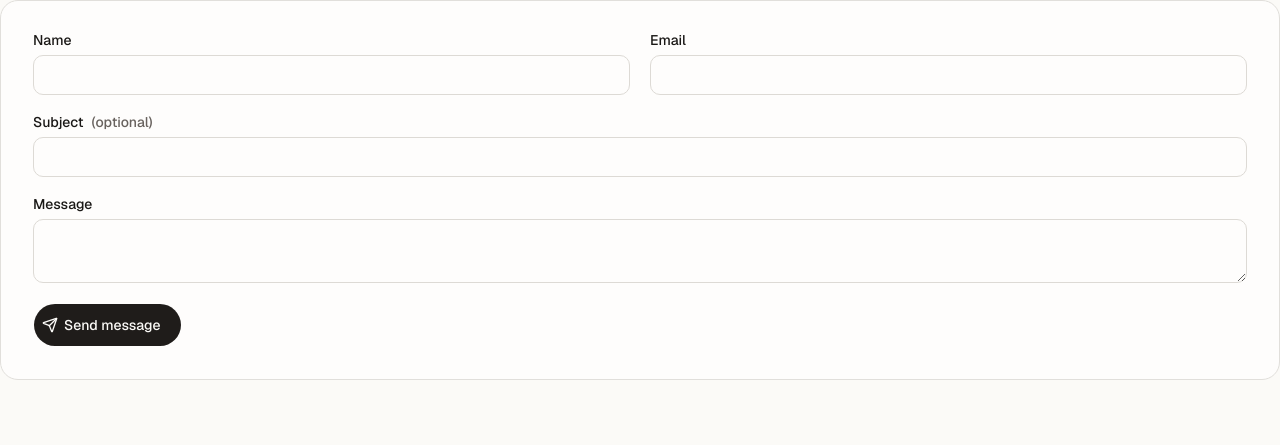
Test: ContactForm › shows validation errors and does not submit invalid input
Type "not-an-email" into the field labelled "Email".
click(948, 75); type("not-an-email")  # box [650,55,1247,95]
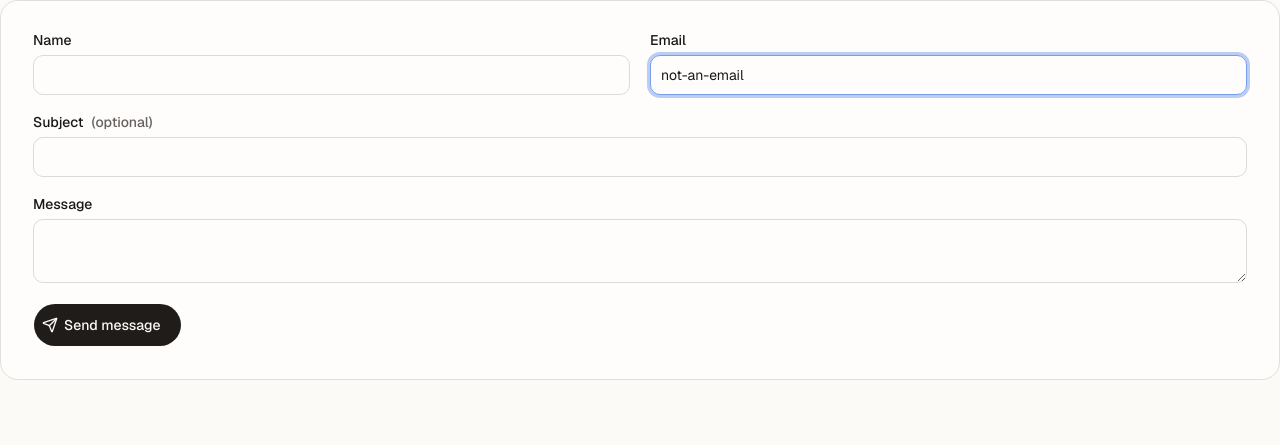
Click the button "Send message".
click(107, 325)  # box [33,303,182,347]
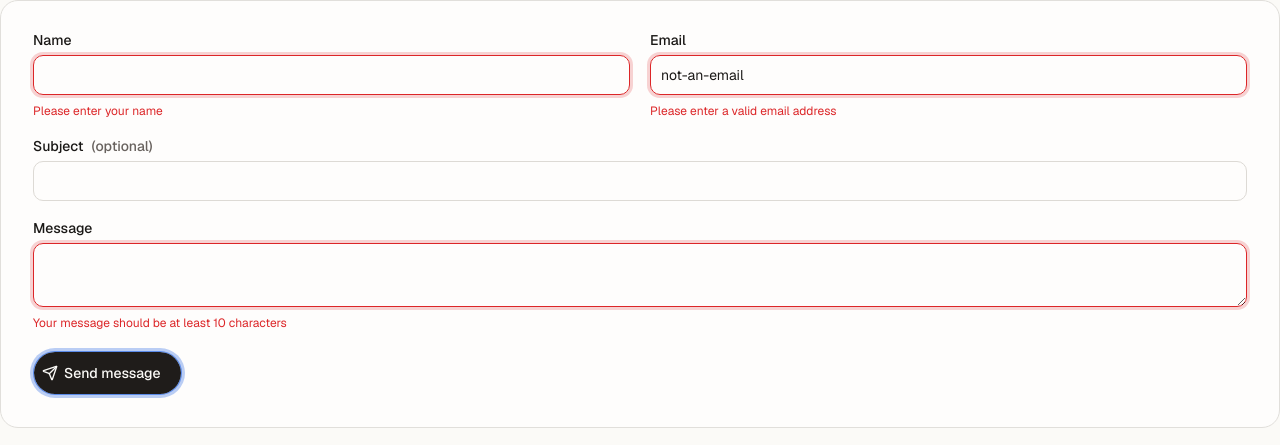
expect the text "Please enter your name" is shown: met, box [33,103,163,119]
expect the text "Please enter a valid email address" is shown: met, box [650,103,837,119]
